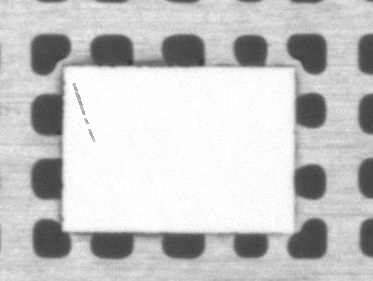DIE_INK: (71, 81, 94, 140)
